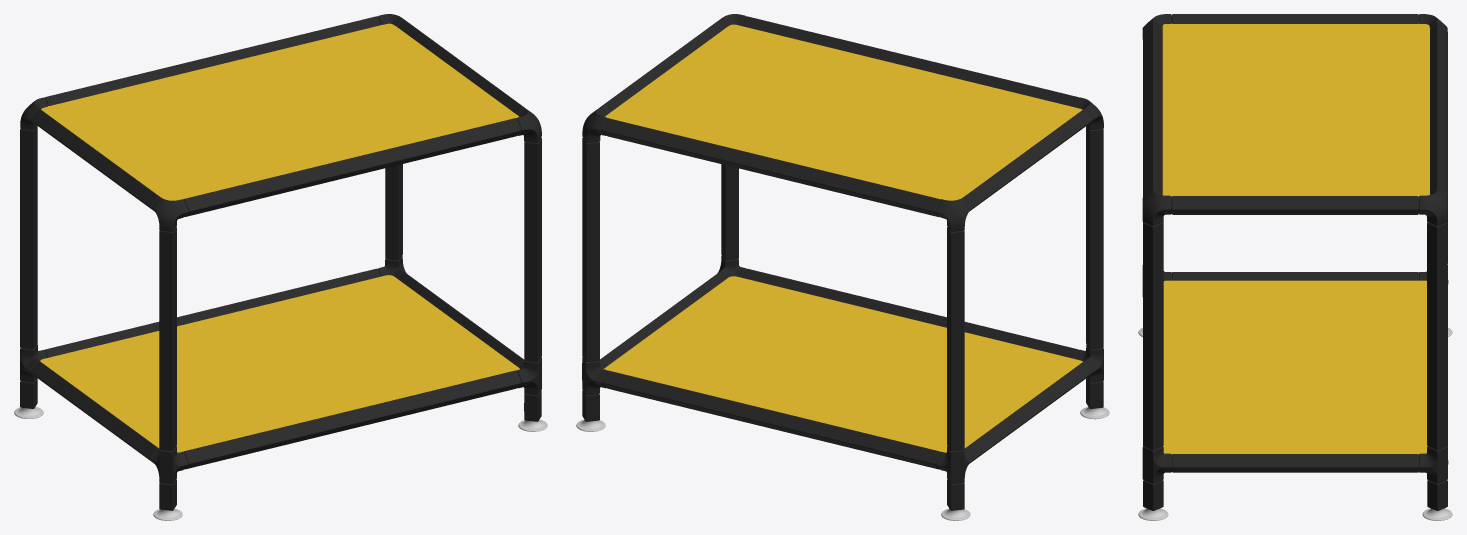
3 views of the same model, side by side, from view 1: azimuth 30°, elevation 25°; view 2: azimuth 150°, elevation 25°; view 3: azimuth 270°, elevation 25° (orthographic). The views are drawn at different scales.
Parts seen in each view (by area): view 1: 523x329x329; view 2: 523x329x329; view 3: 523x329x329.
Boxes of the visible parts, x1,y1,x2,y2 form: 523x329x329: (14,14,547,520); 523x329x329: (576,14,1109,520); 523x329x329: (1138,14,1452,520).
Size of the model in its own units: 0.6129 by 0.4683 by 0.4182.
